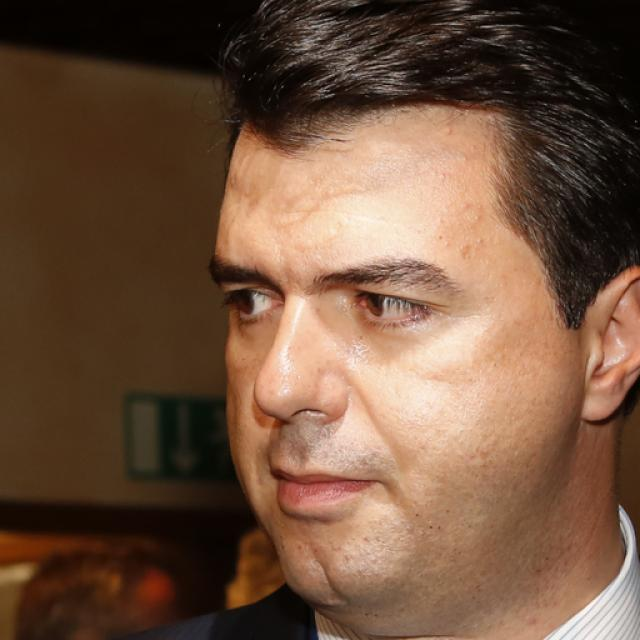Acne: (470, 212, 486, 230), (459, 196, 473, 213), (473, 231, 486, 249)
